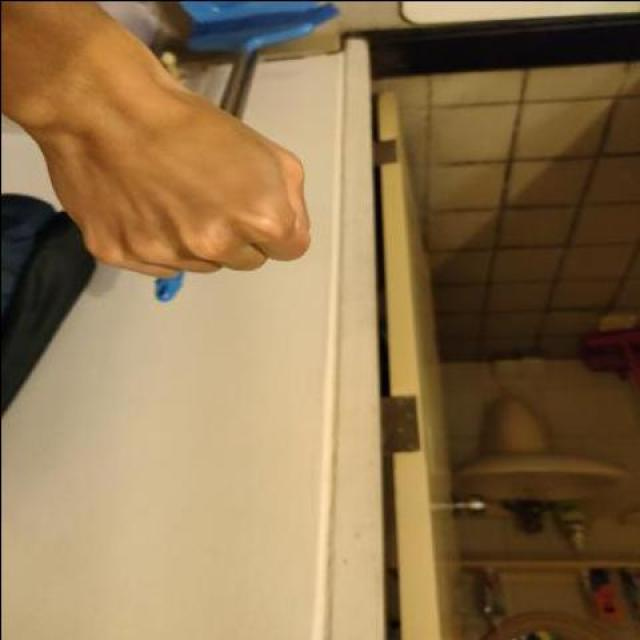fist: (0, 0, 324, 279)
